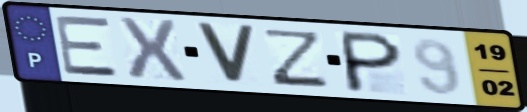9: (411, 36, 464, 98)
E: (51, 15, 123, 79)
P: (341, 29, 405, 95)
V: (192, 20, 259, 88)
X: (114, 15, 190, 83)
Z: (264, 27, 331, 89)
